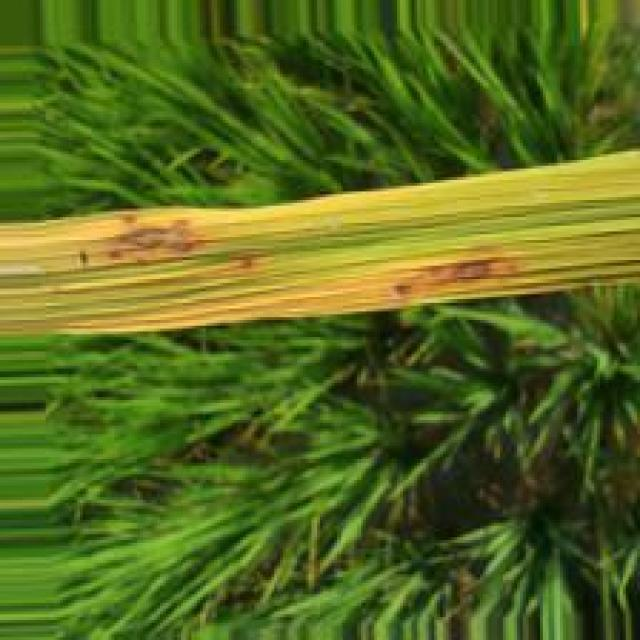Leaf_Blast: (389, 249, 527, 300), (104, 216, 217, 261)
